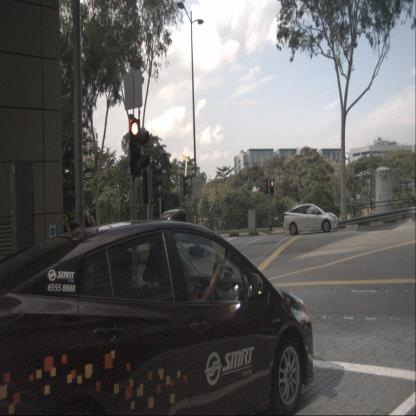vehicle-car: (0, 220, 315, 415), (283, 203, 339, 236)
